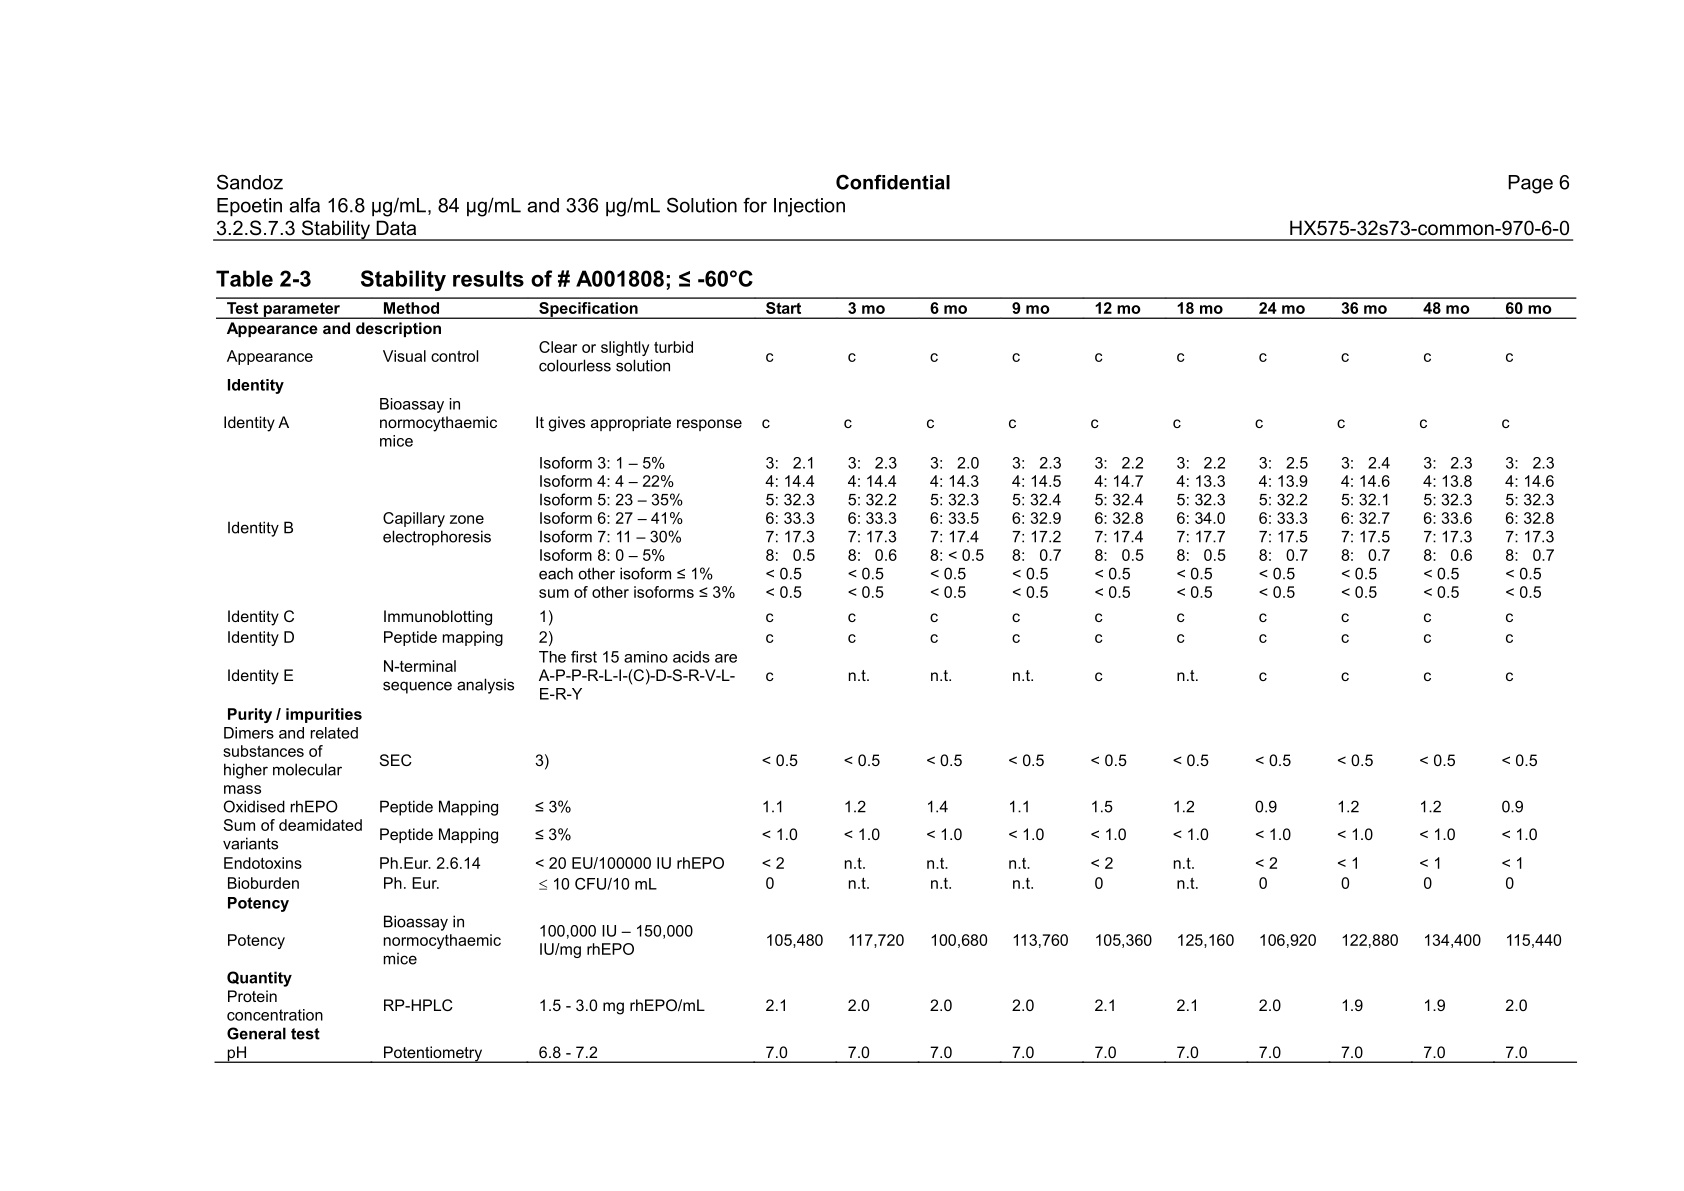partial_lined_merged_cells: (214, 296, 1577, 1063)
